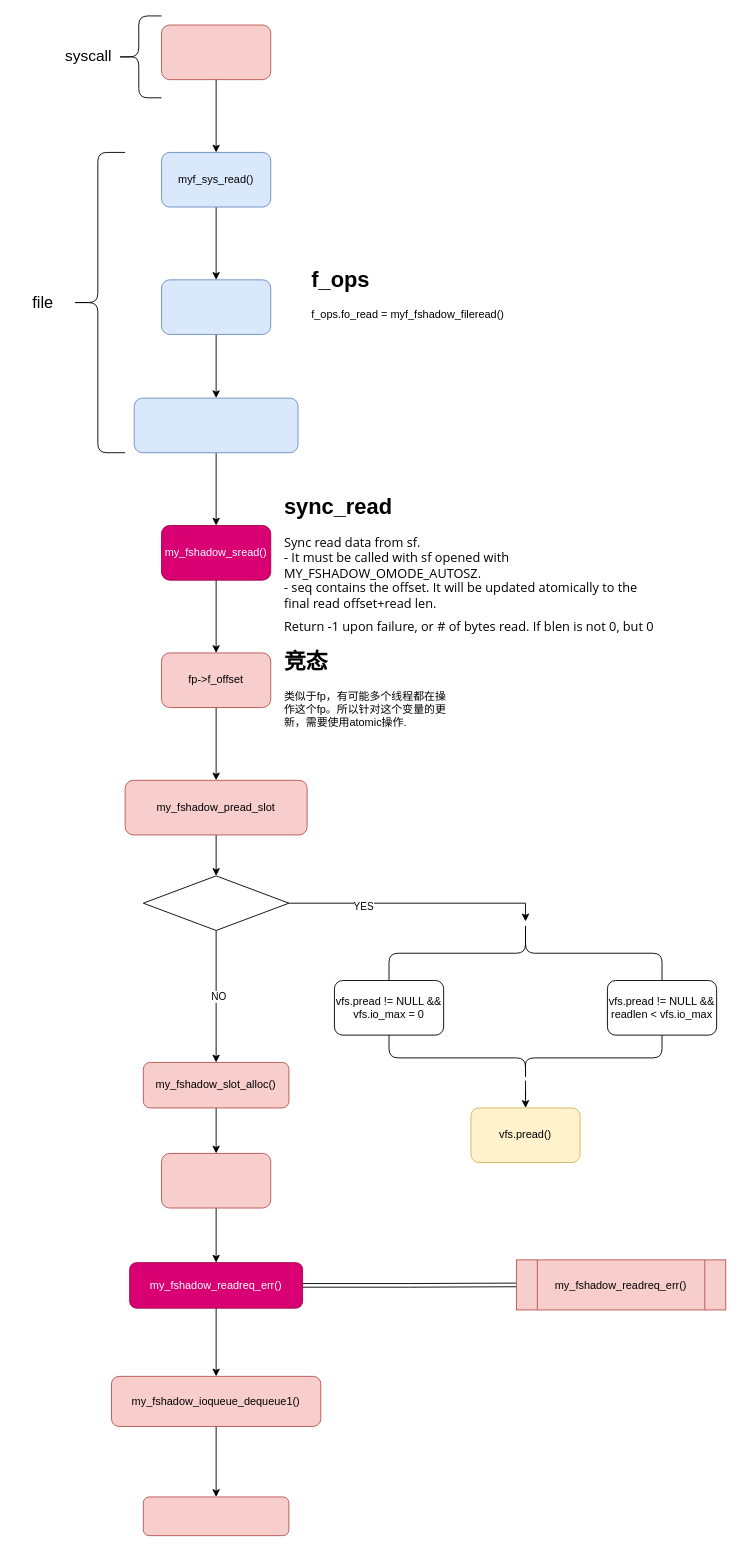
Image size: 742x1552. Some labels were removed from this diagram. The shapes that lost their labels are listed below. From the top down, each one's box as (x1, y1, x2, y2) in pixels, then its label:
(161, 24, 271, 80): do_sys_read()
(161, 279, 271, 334): fp->f_ops->fo_read()
(133, 397, 298, 453): myf_fshadow_fileread()
(142, 875, 289, 930): 走pread吗？
(161, 1153, 271, 1208): overlapped_initrd()
(142, 1496, 289, 1536): my_fshadow_slot_free()
